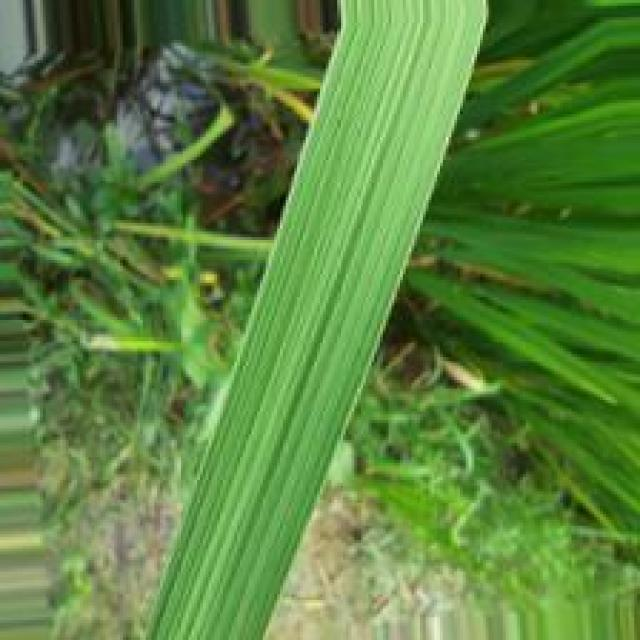HealthyLeaf: (144, 0, 492, 640)
